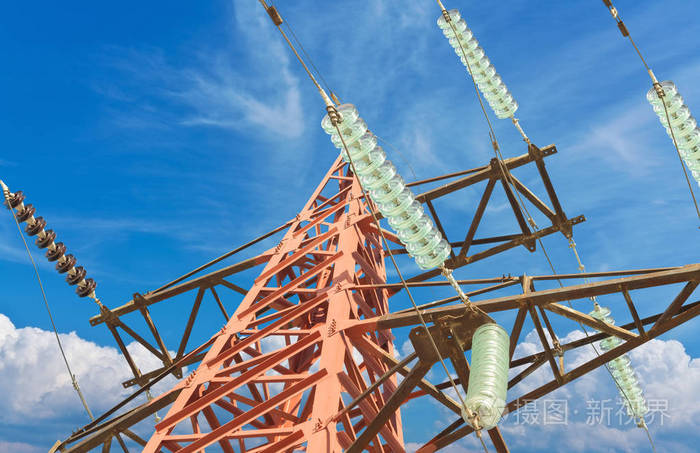insulator: (323, 100, 449, 270), (4, 191, 96, 299), (438, 10, 518, 123), (589, 308, 646, 418), (642, 82, 700, 185), (460, 322, 509, 426)
